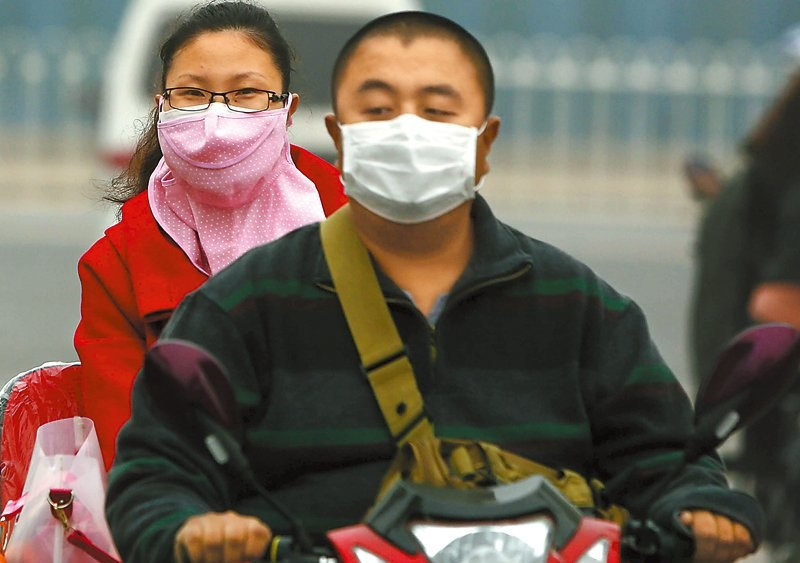face_mask: (339, 38, 477, 221), (164, 32, 287, 186)
